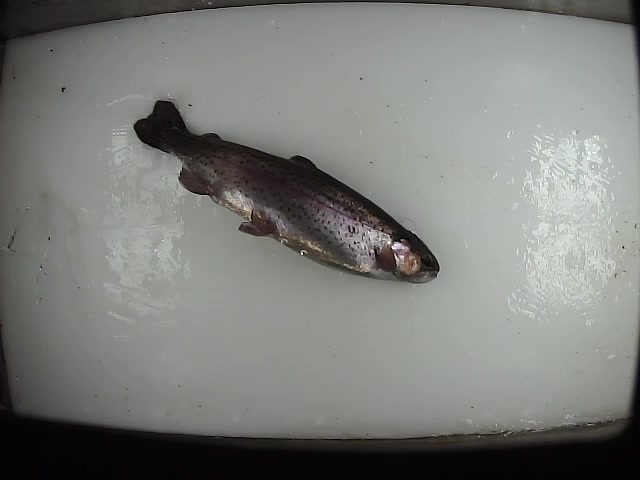fish: (130, 97, 441, 285)
